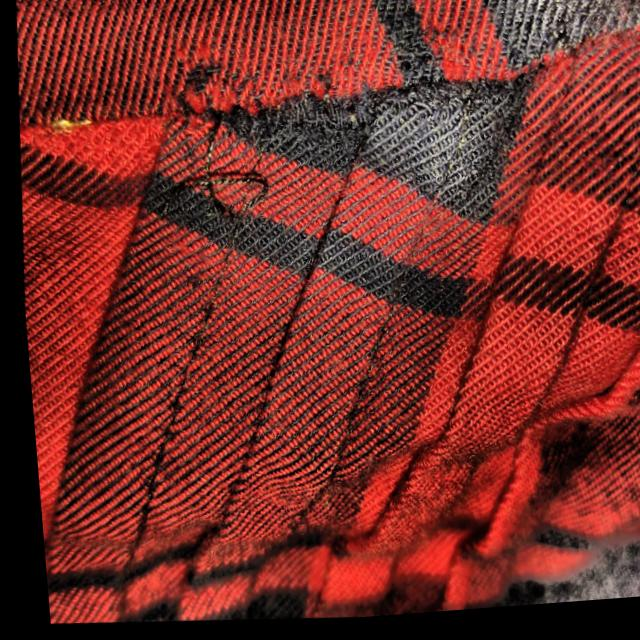Stitch: (140, 52, 403, 255)
